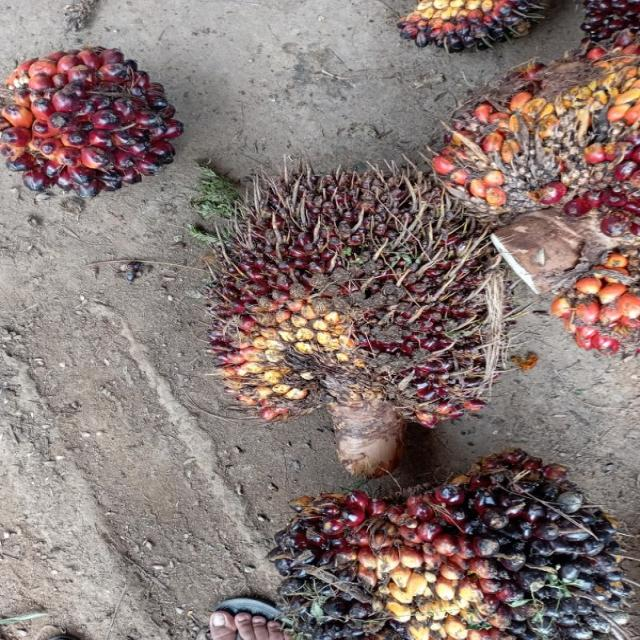fraksi 00: (284, 464, 634, 640)
fraksi 1: (180, 145, 484, 437), (0, 29, 178, 197)
fraksi 3: (442, 45, 640, 365)
